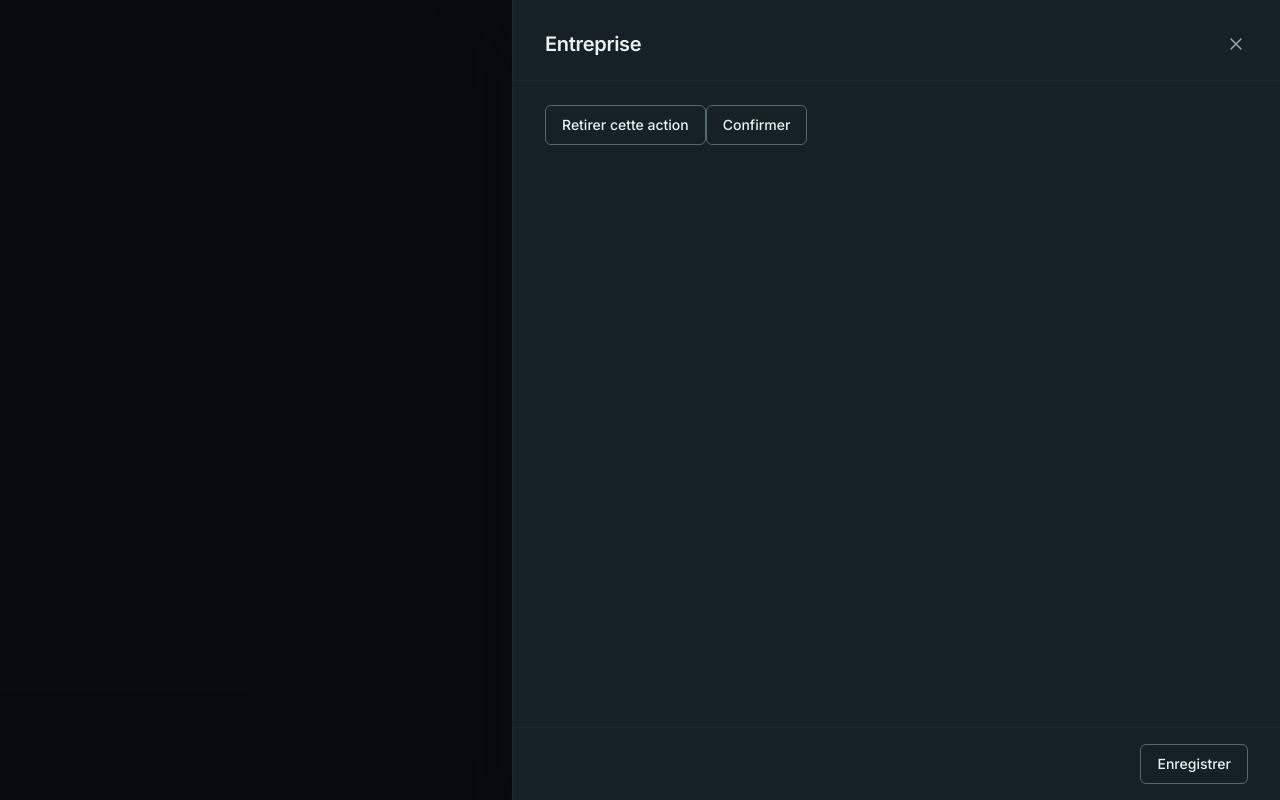
Scenario: Focus loss inside a dialog › moves focus to the dialog when the focused button is removed
What coordinates should you click on to do the following:
click the button "Retirer cette action"
I would click on:
 (625, 125)
Its box is 545,105 -> 706,145.
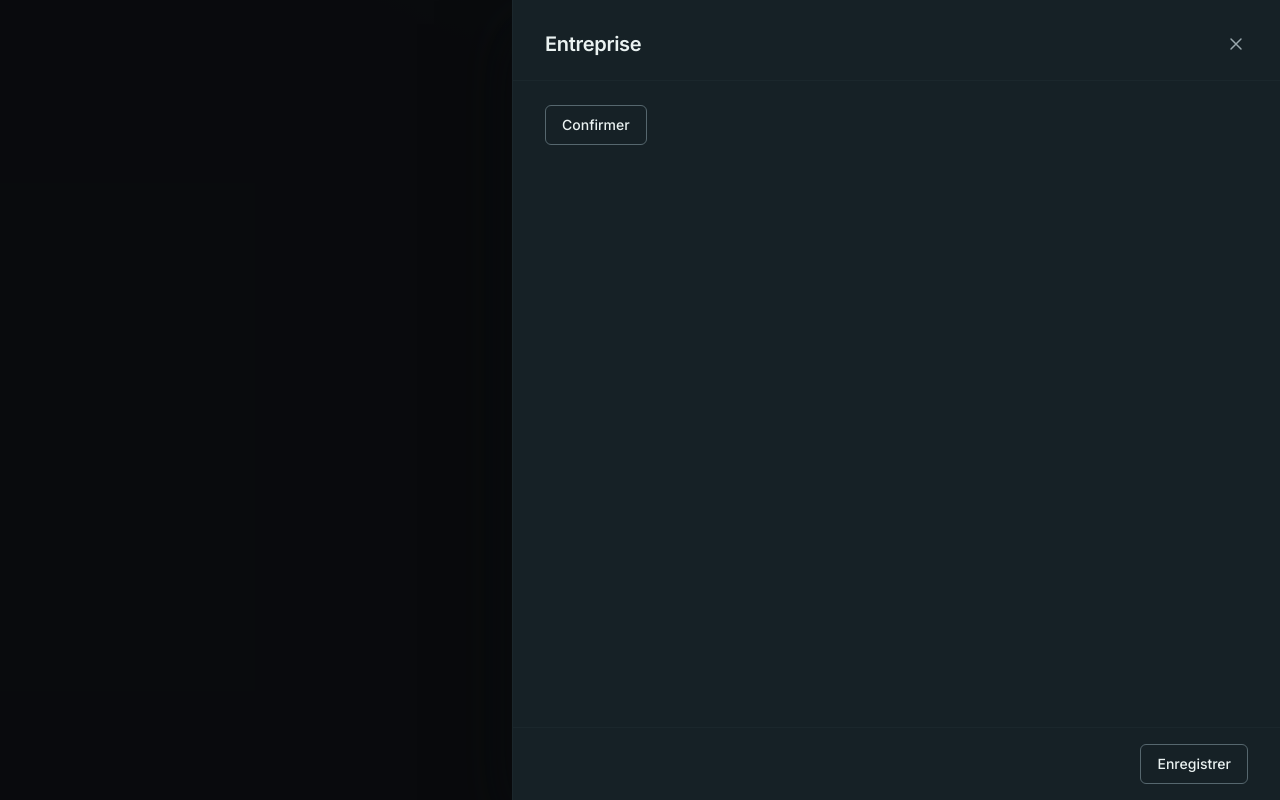
Expected: the button "Retirer cette action" is gone
